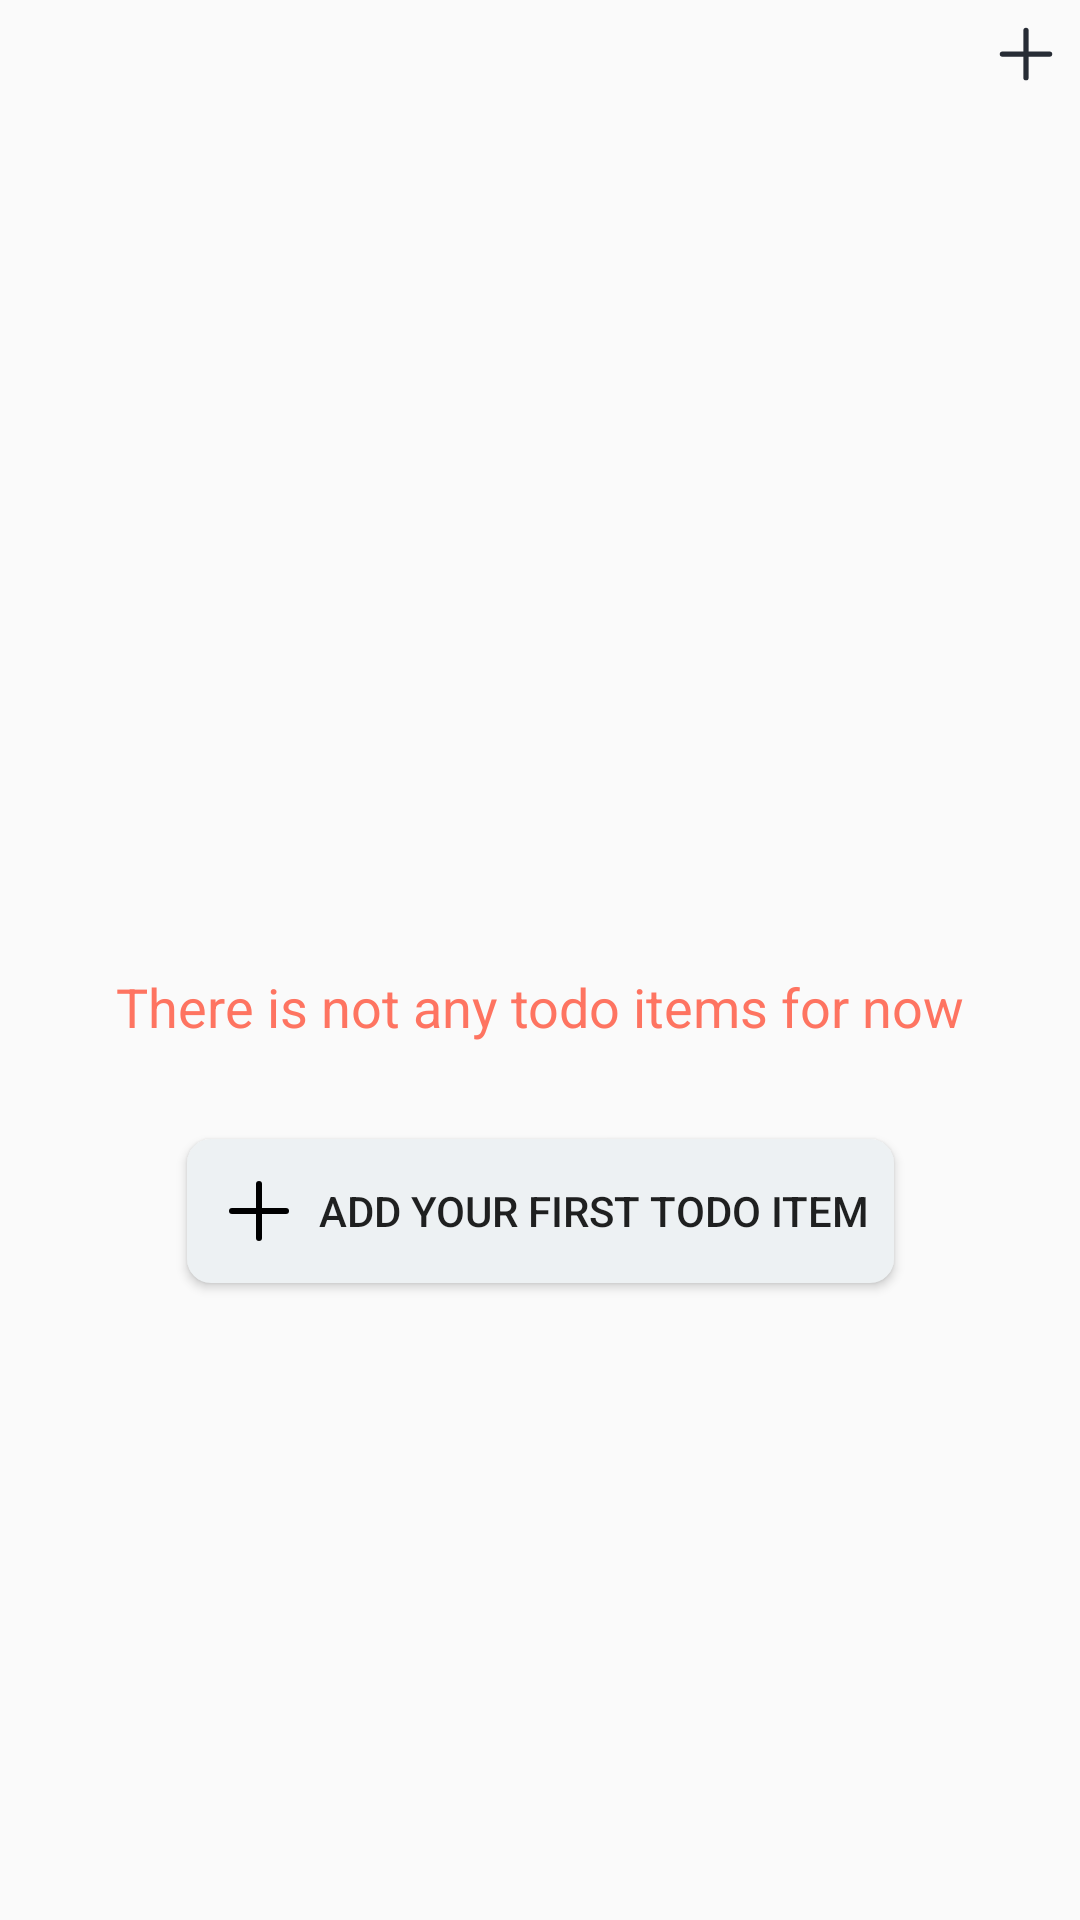

Icons on this 1080×1920 Android screen, each with the point to tap as (x=x, y=y):
add: (x=1026, y=54)
